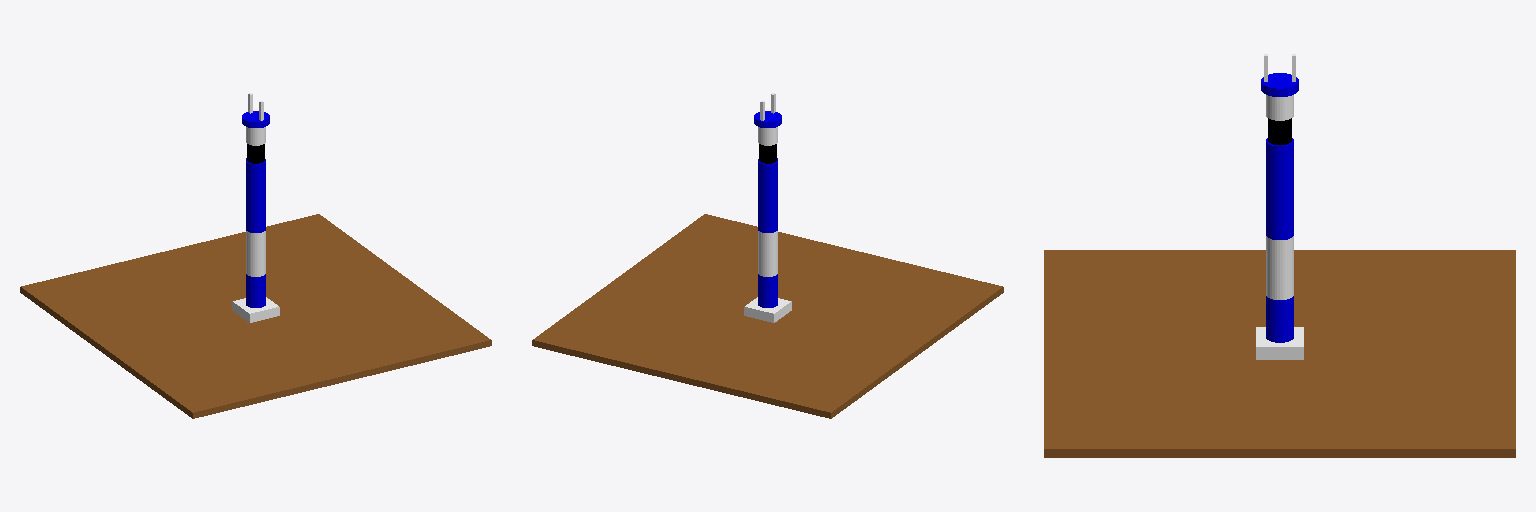
The robot description file, URDF, robot "arm":
<?xml version="1.0" ?>
<!-- =================================================================================== -->
<!-- |    This document was autogenerated by xacro from [local-path]/catkin_ws/src/marm_description/urdf/arm.xacro | -->
<!-- |    EDITING THIS FILE BY HAND IS NOT RECOMMENDED                                 | -->
<!-- =================================================================================== -->
<!-- 这是arm可以跑的文件，用来分析对比 -->
<robot name="arm">
    <!-- Defining the colors used in this robot -->
    <material name="Black">
        <color rgba="0 0 0 1" />
    </material>
    <material name="White">
        <color rgba="1 1 1 1" />
    </material>
    <material name="Blue">
        <color rgba="0 0 1 1" />
    </material>
    <material name="Red">
        <color rgba="1 0 0 1" />
    </material>
    <material name="Brown">
        <color rgba="0.6 0.4 0.2 1" />
    </material>
    <!-- ///////////////////////////////////////   bottom_joint   ////////////////////////////////////////// -->
    <joint name="bottom_joint" type="fixed">
        <origin rpy="0 0 0" xyz="0 0 0" />
        <parent link="base_link" />
        <child link="bottom_link" />
    </joint>
    <link name="bottom_link">
        <visual>
            <origin rpy="0 0 0" xyz=" 0 0 -0.02" />
            <geometry>
                <box size="1 1 0.02" />
            </geometry>
            <material name="Brown" />
        </visual>
        <collision>
            <origin rpy="0 0 0" xyz=" 0 0 -0.02" />
            <geometry>
                <box size="1 1 0.02" />
            </geometry>
        </collision>
        <inertial>
            <mass value="500" />
            <inertia ixx="1.0" ixy="0.0" ixz="0.0" iyy="0.5" iyz="0.0" izz="1.0" />
            <origin xyz="0 0 0" rpy="0 0 0" />
        </inertial>
    </link>
    <!-- /////////////////////////////////////   BASE LINK    ////////////////////////////////////////////// -->
    <link name="base_link">
        <visual>
            <origin rpy="0 0 0" xyz="0 0 0" />
            <geometry>
                <box size="0.1 0.1 0.04" />
            </geometry>
            <material name="White" />
        </visual>
        <collision>
            <origin rpy="0 0 0" xyz="0 0 0" />
            <geometry>
                <box size="0.1 0.1 0.04" />
            </geometry>
        </collision>
        <inertial>
            <mass value="0.1" />
            <origin xyz="0 0 0" rpy="0 0 0" />
            <inertia ixx="0.03" iyy="0.03" izz="0.03" ixy="0.0" ixz="0.0" iyz="0.0" />
        </inertial>
    </link>
    <joint name="joint1" type="revolute">
        <parent link="base_link" />
        <child link="link1" />
        <origin rpy="0 1.570795 0" xyz="0 0 0.02" />
        <axis xyz="-1 0 0" />
        <limit effort="300" lower="-2.96" upper="2.96" velocity="1" />
        <dynamics damping="50" friction="1" />
    </joint>
    <!-- /////////////////////////////////////   LINK1  ////////////////////////////////////////////// -->
    <link name="link1">
        <visual>
            <origin rpy="0 1.570795 0" xyz="-0.05 0 0" />
            <geometry>
                <cylinder length="0.1" radius="0.03" />
            </geometry>
            <material name="Blue" />
        </visual>
        <collision>
            <origin rpy="0 1.570795 0" xyz="-0.05 0 0" />
            <geometry>
                <cylinder length="0.1" radius="0.03" />
            </geometry>
        </collision>
        <inertial>
            <mass value="1" />
            <inertia ixx="1.0" ixy="0.0" ixz="0.0" iyy="0.5" iyz="0.0" izz="1.0" />
            <origin xyz="0 0 0" rpy="0 0 0" />
        </inertial>
    </link>
    <joint name="joint2" type="revolute">
        <parent link="link1" />
        <child link="link2" />
        <origin rpy="-1.570795 0 1.570795" xyz="-0.1 0 0.0" />
        <axis xyz="1 0 0" />
        <limit effort="300" lower="-2.35" upper="2.35" velocity="1" />
        <dynamics damping="50" friction="1" />
    </joint>
    <!-- ///////////////////////////////////////   LINK2  ////////////////////////////////////////////// -->
    <link name="link2">
        <visual>
            <origin rpy="0 0 0" xyz="0 0 0.07" />
            <geometry>
                <cylinder length="0.14" radius="0.03" />
            </geometry>
            <material name="White" />
        </visual>
        <collision>
            <origin rpy="0 0 0" xyz="0 0 0.07" />
            <geometry>
                <cylinder length="0.14" radius="0.03" />
            </geometry>
        </collision>
        <inertial>
            <mass value="1" />
            <inertia ixx="1.0" ixy="0.0" ixz="0.0" iyy="0.5" iyz="0.0" izz="1.0" />
            <origin xyz="0 0 0" rpy="0 0 0" />
        </inertial>
    </link>
    <joint name="joint3" type="revolute">
        <parent link="link2" />
        <child link="link3" />
        <origin rpy="0 3.14159 0" xyz="0 0 0.14" />
        <axis xyz="-1 0 0" />
        <limit effort="300" lower="-2.62" upper="2.62" velocity="1" />
        <dynamics damping="50" friction="1" />
    </joint>
    <!-- /////////////////////////////////   LINK3  ///////////////////////////////////////////////////// -->
    <link name="link3">
        <visual>
            <origin rpy="0 0 0" xyz="0 0 -0.11" />
            <geometry>
                <cylinder length="0.22" radius="0.03" />
            </geometry>
            <material name="Blue" />
        </visual>
        <collision>
            <origin rpy="0 0 0" xyz="0 0 -0.11" />
            <geometry>
                <cylinder length="0.22" radius="0.03" />
            </geometry>
        </collision>
        <inertial>
            <mass value="1" />
            <inertia ixx="1.0" ixy="0.0" ixz="0.0" iyy="0.5" iyz="0.0" izz="1.0" />
            <origin xyz="0 0 0" rpy="0 0 0" />
        </inertial>
    </link>
    <joint name="joint4" type="revolute">
        <parent link="link3" />
        <child link="link4" />
        <origin rpy="0 1.570795 3.14159" xyz="0.0 0.0 -0.22" />
        <axis xyz="1 0 0" />
        <limit effort="300" lower="-2.62" upper="2.62" velocity="1" />
        <dynamics damping="50" friction="1" />
    </joint>
    <!-- ///////////////////////////////////   LINK4  //////////////////////////////////////////////// -->
    <link name="link4">
        <visual>
            <origin rpy="0 1.570795 0" xyz="0.03 0 0" />
            <geometry>
                <cylinder length="0.06" radius="0.025" />
            </geometry>
            <material name="Black" />
        </visual>
        <collision>
            <origin rpy="0 1.570795 0" xyz="0.03 0 0" />
            <geometry>
                <cylinder length="0.06" radius="0.025" />
            </geometry>
        </collision>
        <inertial>
            <mass value="1" />
            <inertia ixx="1.0" ixy="0.0" ixz="0.0" iyy="0.5" iyz="0.0" izz="1.0" />
            <origin xyz="0 0 0" rpy="0 0 0" />
        </inertial>
    </link>
    <joint name="joint5" type="revolute">
        <parent link="link4" />
        <child link="link5" />
        <origin rpy="0 1.570795 0" xyz="0.06 0.0 0.0" />
        <axis xyz="1 0 0" />
        <limit effort="300" lower="-2.62" upper="2.62" velocity="1" />
        <dynamics damping="50" friction="1" />
    </joint>
    <!-- //////////////////////////////////   LINK5  ///////////////////////////////////////////////// -->
    <link name="link5">
        <visual>
            <origin rpy="0 0 0" xyz="0 0 0.03" />
            <geometry>
                <cylinder length="0.06" radius="0.03" />
            </geometry>
            <material name="White" />
        </visual>
        <collision>
            <origin rpy="0 0 0" xyz="0 0 0.03 " />
            <geometry>
                <cylinder length="0.06" radius="0.03" />
            </geometry>
        </collision>
        <inertial>
            <mass value="1" />
            <inertia ixx="1.0" ixy="0.0" ixz="0.0" iyy="0.5" iyz="0.0" izz="1.0" />
            <origin xyz="0 0 0" rpy="0 0 0" />
        </inertial>
    </link>
    <joint name="joint6" type="revolute">
        <parent link="link5" />
        <child link="link6" />
        <origin rpy="4.712384999999999 -1.570795 0" xyz="0 0 0.06" />
        <axis xyz="1 0 0" />
        <limit effort="300" lower="-6.28" upper="6.28" velocity="1" />
        <dynamics damping="50" friction="1" />
    </joint>
    <!-- ////////////////////////////////   LINK6  ///////////////////////////////////////////////// -->
    <link name="link6">
        <visual>
            <origin rpy="0 1.570795 0" xyz="0.01 0 0 " />
            <geometry>
                <cylinder length="0.02" radius="0.04" />
            </geometry>
            <material name="Blue" />
        </visual>
        <collision>
            <origin rpy="0 1.570795 0" xyz="0.01 0 0" />
            <geometry>
                <cylinder length="0.02" radius="0.04" />
            </geometry>
        </collision>
        <inertial>
            <mass value="1" />
            <inertia ixx="1.0" ixy="0.0" ixz="0.0" iyy="0.5" iyz="0.0" izz="1.0" />
            <origin xyz="0 0 0" rpy="0 0 0" />
        </inertial>
    </link>
    <joint name="finger_joint1" type="prismatic">
        <parent link="link6" />
        <child link="gripper_finger_link1" />
        <origin xyz="0.0 0 0" />
        <axis xyz="0 1 0" />
        <limit effort="100" lower="0" upper="0.06" velocity="1.0" />
        <dynamics damping="50" friction="1" />
    </joint>
    <!-- //////////////////////////////////////   gripper   ////////////////////////////////////////////// -->
    <!-- LEFT GRIPPER AFT LINK -->
    <link name="gripper_finger_link1">
        <visual>
            <origin xyz="0.04 -0.03 0" />
            <geometry>
                <box size="0.08 0.01 0.01" />
            </geometry>
            <material name="White" />
        </visual>
        <inertial>
            <mass value="1" />
            <inertia ixx="1.0" ixy="0.0" ixz="0.0" iyy="0.5" iyz="0.0" izz="1.0" />
        </inertial>
    </link>
    <joint name="finger_joint2" type="fixed">
        <parent link="link6" />
        <child link="gripper_finger_link2" />
        <origin xyz="0.0 0 0" />
    </joint>
    <!-- RIGHT GRIPPER AFT LINK -->
    <link name="gripper_finger_link2">
        <visual>
            <origin xyz="0.04 0.03 0" />
            <geometry>
                <box size="0.08 0.01 0.01" />
            </geometry>
            <material name="White" />
        </visual>
        <inertial>
            <mass value="1" />
            <inertia ixx="1.0" ixy="0.0" ixz="0.0" iyy="0.5" iyz="0.0" izz="1.0" />
        </inertial>
    </link>
    <!-- Grasping frame -->
    <link name="grasping_frame" />
    <joint name="grasping_frame_joint" type="fixed">
        <parent link="link6" />
        <child link="grasping_frame" />
        <origin rpy="0 0 0" xyz="0.08 0 0" />
    </joint>
    <!-- /////////////////////////////////   Gazebo   ////////////////////////////////////// -->
    <gazebo reference="bottom_link">
        <material>Gazebo/White</material>
        <plugin name="gazebo_ros_control">
            <robotNamespace>/</robotNamespace>
        </plugin>
    </gazebo>
    <gazebo reference="base_link">
        <material>Gazebo/White</material>
    </gazebo>
    <gazebo reference="link1">
        <material>Gazebo/Blue</material>
    </gazebo>
    <gazebo reference="link2">
        <material>Gazebo/White</material>
    </gazebo>
    <gazebo reference="link3">
        <material>Gazebo/Blue</material>
    </gazebo>
    <gazebo reference="link4">
        <material>Gazebo/Black</material>
    </gazebo>
    <gazebo reference="link5">
        <material>Gazebo/White</material>
    </gazebo>
    <gazebo reference="link6">
        <material>Gazebo/Blue</material>
    </gazebo>
    <gazebo reference="gripper_finger_link1">
        <material>Gazebo/White</material>
    </gazebo>
    <gazebo reference="gripper_finger_link2">
        <material>Gazebo/White</material>
    </gazebo>
    <transmission name="tran1">
        <type>transmission_interface/SimpleTransmission</type>
        <joint name="joint1">
            <hardwareInterface>hardware_interface/PositionJointInterface</hardwareInterface>
        </joint>
        <actuator name="motor1">
            <hardwareInterface>hardware_interface/PositionJointInterface</hardwareInterface>
            <mechanicalReduction>1</mechanicalReduction>
        </actuator>
    </transmission>
    <transmission name="tran1">
        <type>transmission_interface/SimpleTransmission</type>
        <joint name="joint2">
            <hardwareInterface>hardware_interface/PositionJointInterface</hardwareInterface>
        </joint>
        <actuator name="motor1">
            <hardwareInterface>hardware_interface/PositionJointInterface</hardwareInterface>
            <mechanicalReduction>1</mechanicalReduction>
        </actuator>
    </transmission>
    <transmission name="tran1">
        <type>transmission_interface/SimpleTransmission</type>
        <joint name="joint3">
            <hardwareInterface>hardware_interface/PositionJointInterface</hardwareInterface>
        </joint>
        <actuator name="motor1">
            <hardwareInterface>hardware_interface/PositionJointInterface</hardwareInterface>
            <mechanicalReduction>1</mechanicalReduction>
        </actuator>
    </transmission>
    <transmission name="tran1">
        <type>transmission_interface/SimpleTransmission</type>
        <joint name="joint4">
            <hardwareInterface>hardware_interface/PositionJointInterface</hardwareInterface>
        </joint>
        <actuator name="motor1">
            <hardwareInterface>hardware_interface/PositionJointInterface</hardwareInterface>
            <mechanicalReduction>1</mechanicalReduction>
        </actuator>
    </transmission>
    <transmission name="tran1">
        <type>transmission_interface/SimpleTransmission</type>
        <joint name="joint5">
            <hardwareInterface>hardware_interface/PositionJointInterface</hardwareInterface>
        </joint>
        <actuator name="motor1">
            <hardwareInterface>hardware_interface/PositionJointInterface</hardwareInterface>
            <mechanicalReduction>1</mechanicalReduction>
        </actuator>
    </transmission>
    <transmission name="tran1">
        <type>transmission_interface/SimpleTransmission</type>
        <joint name="joint6">
            <hardwareInterface>hardware_interface/PositionJointInterface</hardwareInterface>
        </joint>
        <actuator name="motor1">
            <hardwareInterface>hardware_interface/PositionJointInterface</hardwareInterface>
            <mechanicalReduction>1</mechanicalReduction>
        </actuator>
    </transmission>
    <transmission name="tran1">
        <type>transmission_interface/SimpleTransmission</type>
        <joint name="finger_joint1">
            <hardwareInterface>hardware_interface/PositionJointInterface</hardwareInterface>
        </joint>
        <actuator name="motor1">
            <hardwareInterface>hardware_interface/PositionJointInterface</hardwareInterface>
            <mechanicalReduction>1</mechanicalReduction>
        </actuator>
    </transmission>
    <!-- ros_control plugin -->
    <gazebo>
        <plugin filename="libgazebo_ros_control.so" name="gazebo_ros_control">
            <robotNamespace>/arm</robotNamespace>
        </plugin>
    </gazebo>
</robot>

--- Facts derived from the render (not from the file) ---
Views: 3 orthographic renders of the robot side by side, from view 1: azimuth 30°, elevation 25°; view 2: azimuth 150°, elevation 25°; view 3: azimuth 270°, elevation 25°.
Robot: arm — 11 links, 10 joints (6 revolute, 1 prismatic, 3 fixed); root link base_link; default pose: every joint at zero.
Links seen in each view (by area): view 1: bottom_link, link3, link2, base_link, link1; view 2: bottom_link, link3, link2, base_link, link1; view 3: bottom_link, link3, link2, link1, base_link, link6, link5, link4.
Boxes of the visible links, <box> form: bottom_link: <box>20,214,491,418</box>; link3: <box>246,158,265,232</box>; link2: <box>246,231,265,276</box>; base_link: <box>232,297,279,322</box>; link1: <box>246,274,265,307</box>; bottom_link: <box>532,214,1003,418</box>; link3: <box>758,158,777,232</box>; link2: <box>758,231,777,276</box>; base_link: <box>744,297,791,322</box>; link1: <box>758,274,777,307</box>; bottom_link: <box>1044,250,1515,457</box>; link3: <box>1266,138,1293,239</box>; link2: <box>1266,236,1293,299</box>; link1: <box>1266,296,1293,342</box>; base_link: <box>1256,327,1303,359</box>; link6: <box>1261,73,1298,96</box>; link5: <box>1266,95,1293,120</box>; link4: <box>1268,118,1291,145</box>.
Bounding box of the posed robot: 1 × 1 × 0.71 m (x, y, z).
Geometry: primitives only (box / cylinder / sphere), no mesh files.
